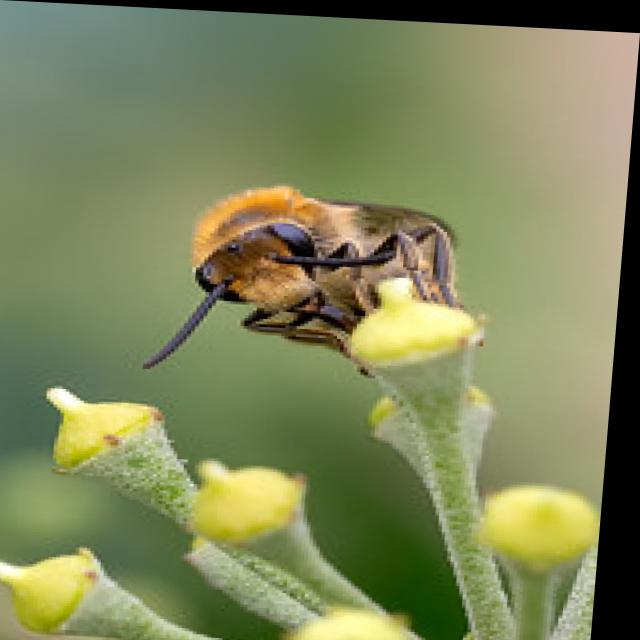Abeille: (107, 165, 582, 398)
